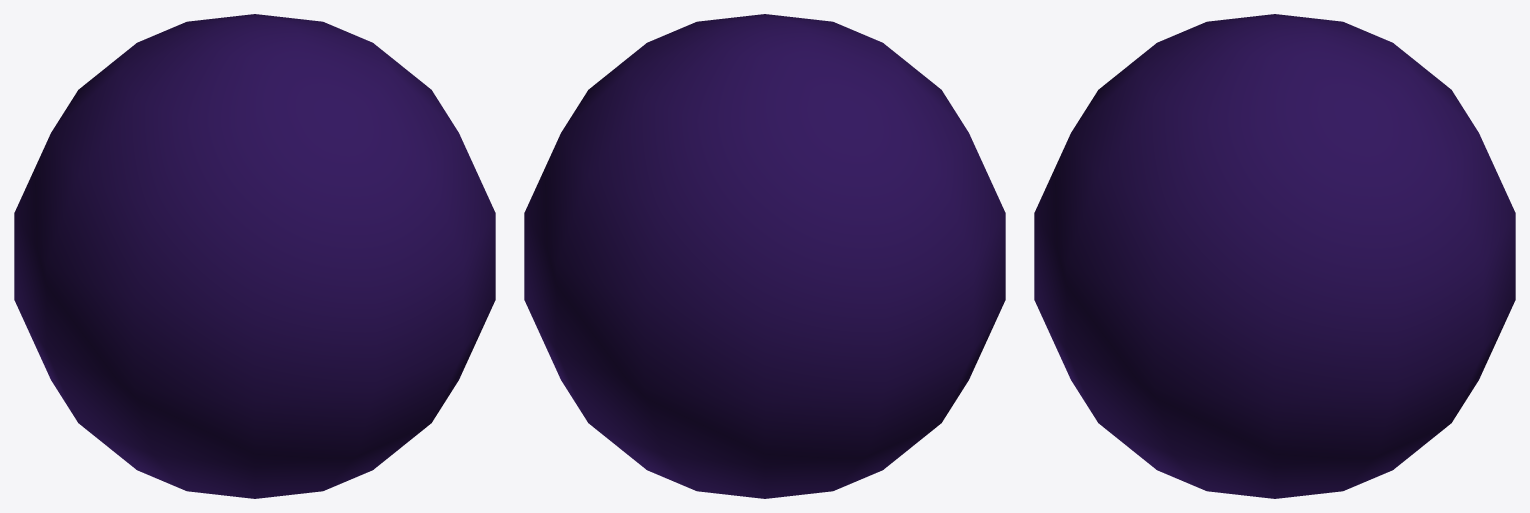
The model's file is grape_bullet.fbx.
3 views of the same model, side by side, from view 1: azimuth 30°, elevation 25°; view 2: azimuth 150°, elevation 25°; view 3: azimuth 270°, elevation 25° (orthographic).
Parts seen in each view (by area): view 1: Grape10; view 2: Grape10; view 3: Grape10.
Boxes of the visible parts, <box> form: Grape10: <box>14,14,495,498</box>; Grape10: <box>524,14,1005,498</box>; Grape10: <box>1034,14,1515,498</box>.
Bounding box in the file's own units: 20.83 × 21.23 × 20.83.
